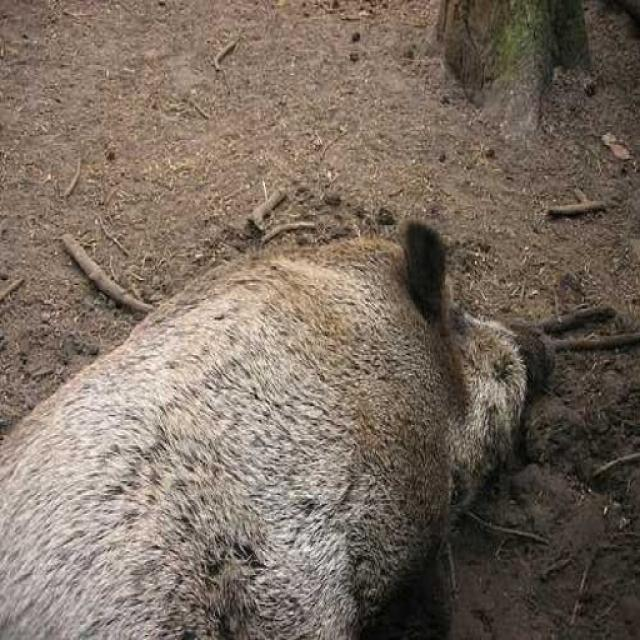pig: (0, 209, 590, 620)
